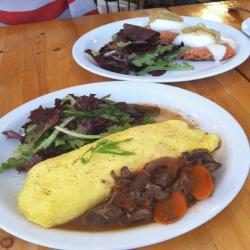omelette: (18, 119, 224, 222)
salad: (19, 93, 132, 149)
